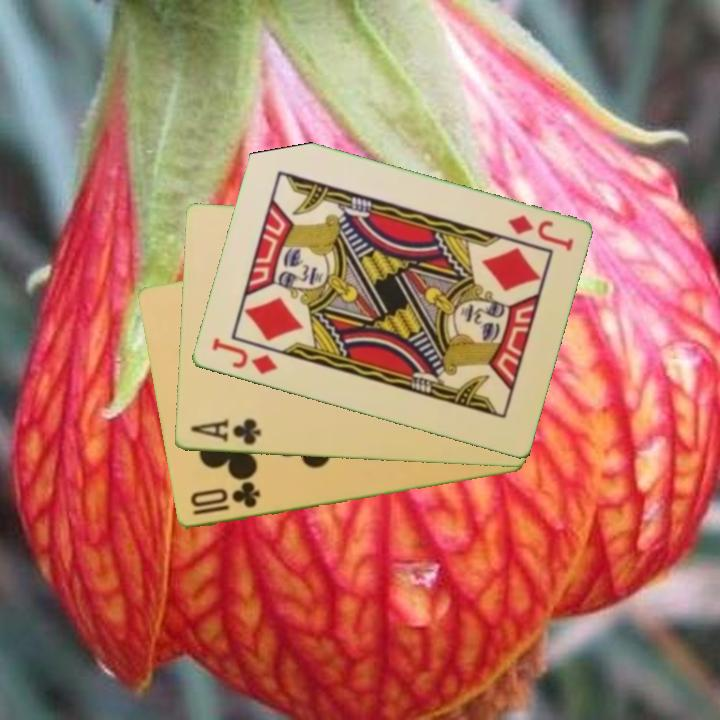10c: (186, 480, 263, 519)
Ac: (186, 415, 263, 449)
Jd: (208, 334, 280, 378), (504, 212, 576, 254)
